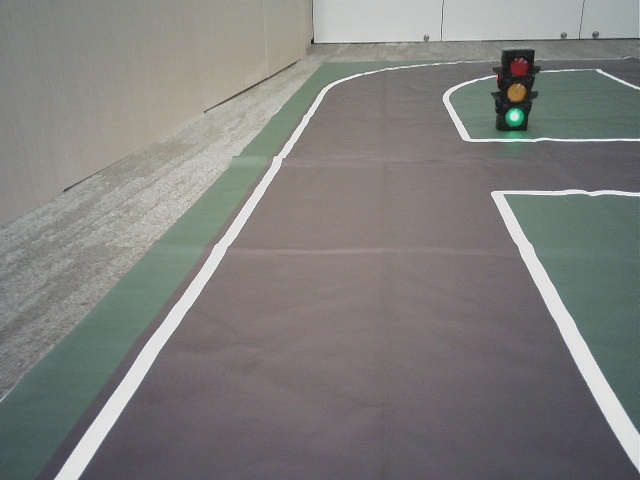green: (503, 51, 528, 128)
